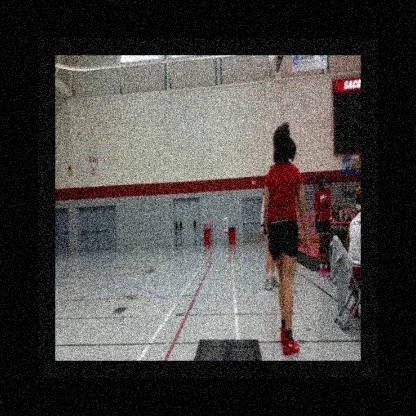lateral_flexion_left: (262, 120, 311, 360)
stance_width_narrow: (262, 158, 300, 360)
